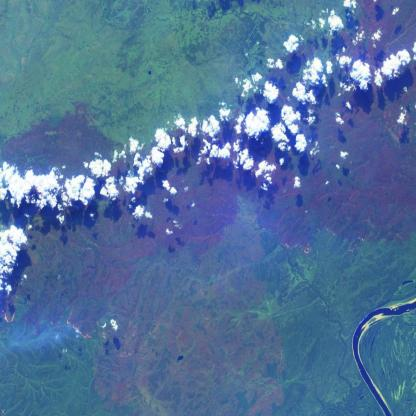fire: (253, 216, 378, 265), (55, 301, 101, 345), (0, 304, 20, 335)
